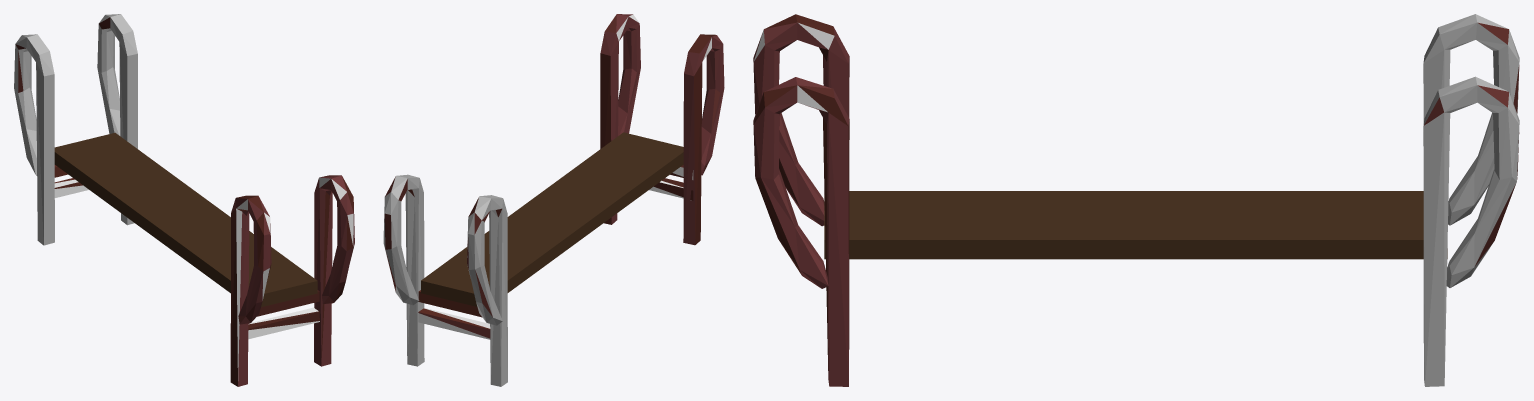
The model's file is deska.fbx.
3 renders of one model, left to right at view 1: azimuth 30°, elevation 25°; view 2: azimuth 150°, elevation 25°; view 3: azimuth 270°, elevation 25°, orthographic. The views are drawn at different scales.
Visible parts, largest first — view 1: Cube; view 2: Cube; view 3: Cube.
Part boxes in pixels (x1,y1,x2,y2): Cube: [14, 14, 354, 386]; Cube: [383, 14, 724, 386]; Cube: [753, 14, 1519, 386].
Size of the model in its own units: 258 by 112 by 58.51.
